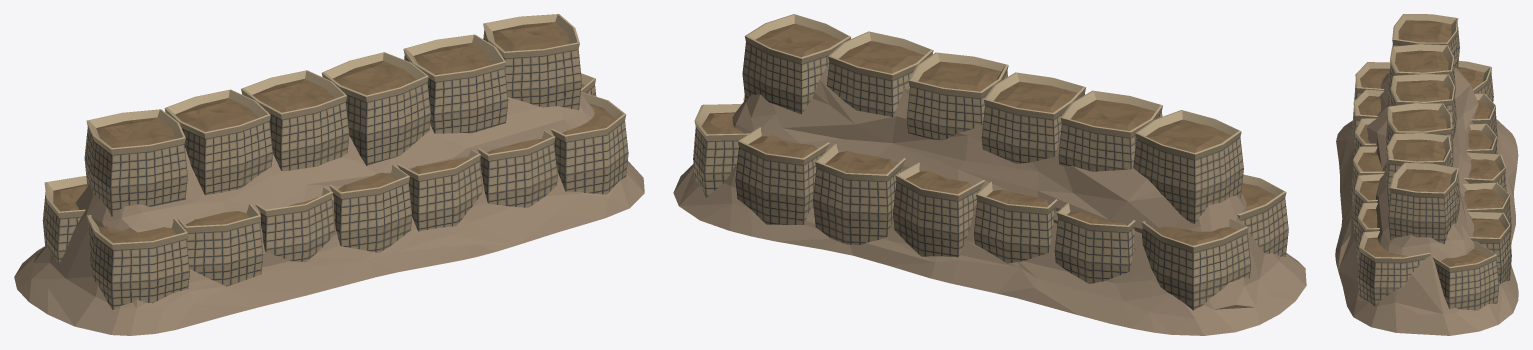
Rendered from SM_Prop_Barrier_Base_Group_03.fbx.
3 views of the same model, side by side, from view 1: azimuth 30°, elevation 25°; view 2: azimuth 150°, elevation 25°; view 3: azimuth 270°, elevation 25° (orthographic). The views are drawn at different scales.
Visible parts, largest first — view 1: SM_Prop_Barrier_Base_Group_03; view 2: SM_Prop_Barrier_Base_Group_03; view 3: SM_Prop_Barrier_Base_Group_03.
Boxes of the visible parts, bbox=[...] form: SM_Prop_Barrier_Base_Group_03: bbox=[14, 14, 644, 335]; SM_Prop_Barrier_Base_Group_03: bbox=[673, 14, 1306, 335]; SM_Prop_Barrier_Base_Group_03: bbox=[1335, 14, 1518, 335].
Bounding box in the file's own units: 895 × 222 × 308.
